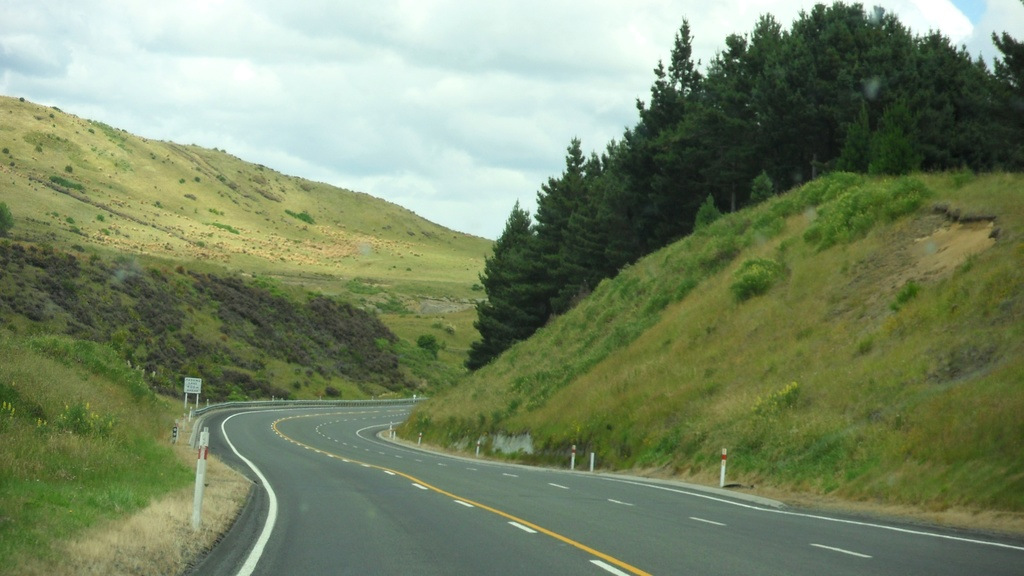Tree: (458, 0, 1023, 369)
